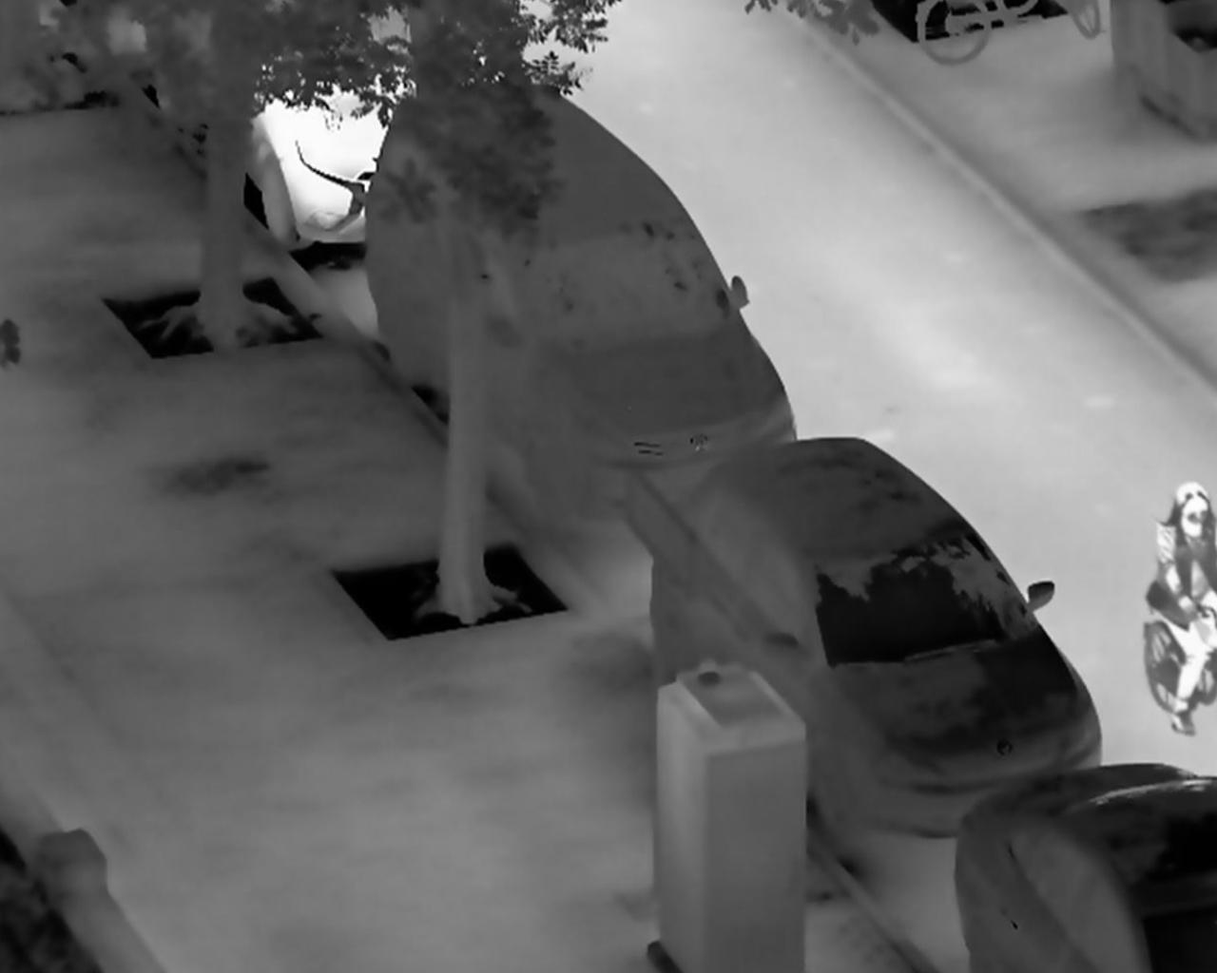person: (1143, 477, 1217, 738)
